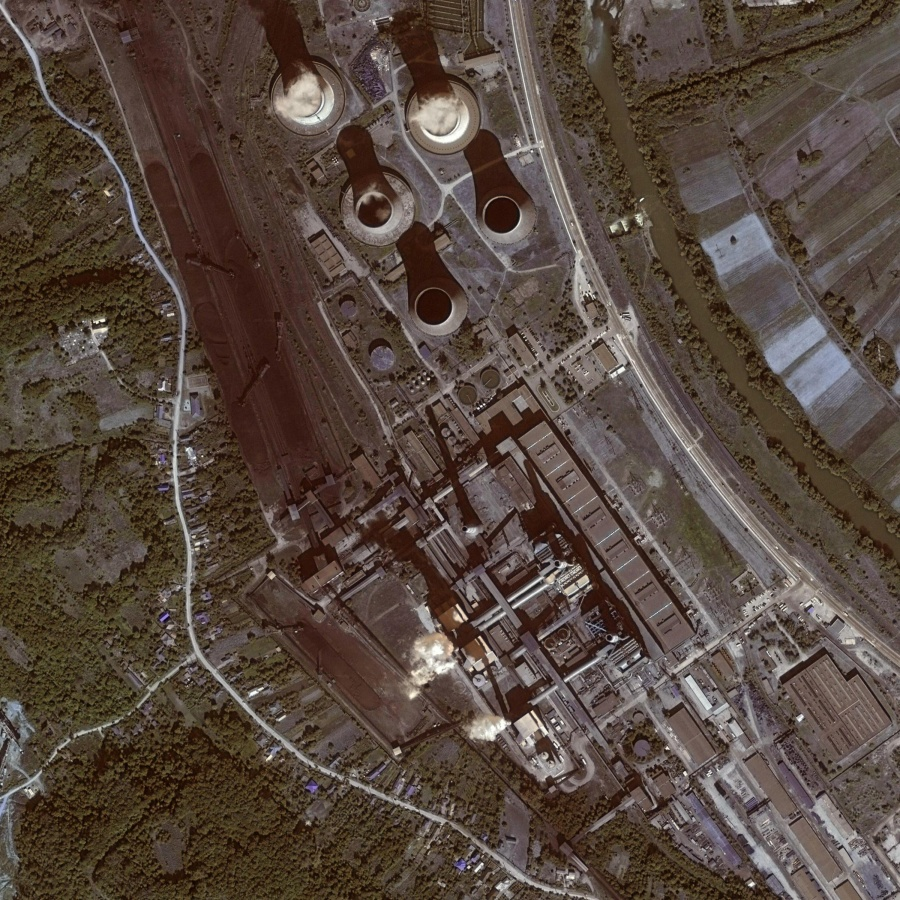PowerPlant: (294, 541, 509, 770)
